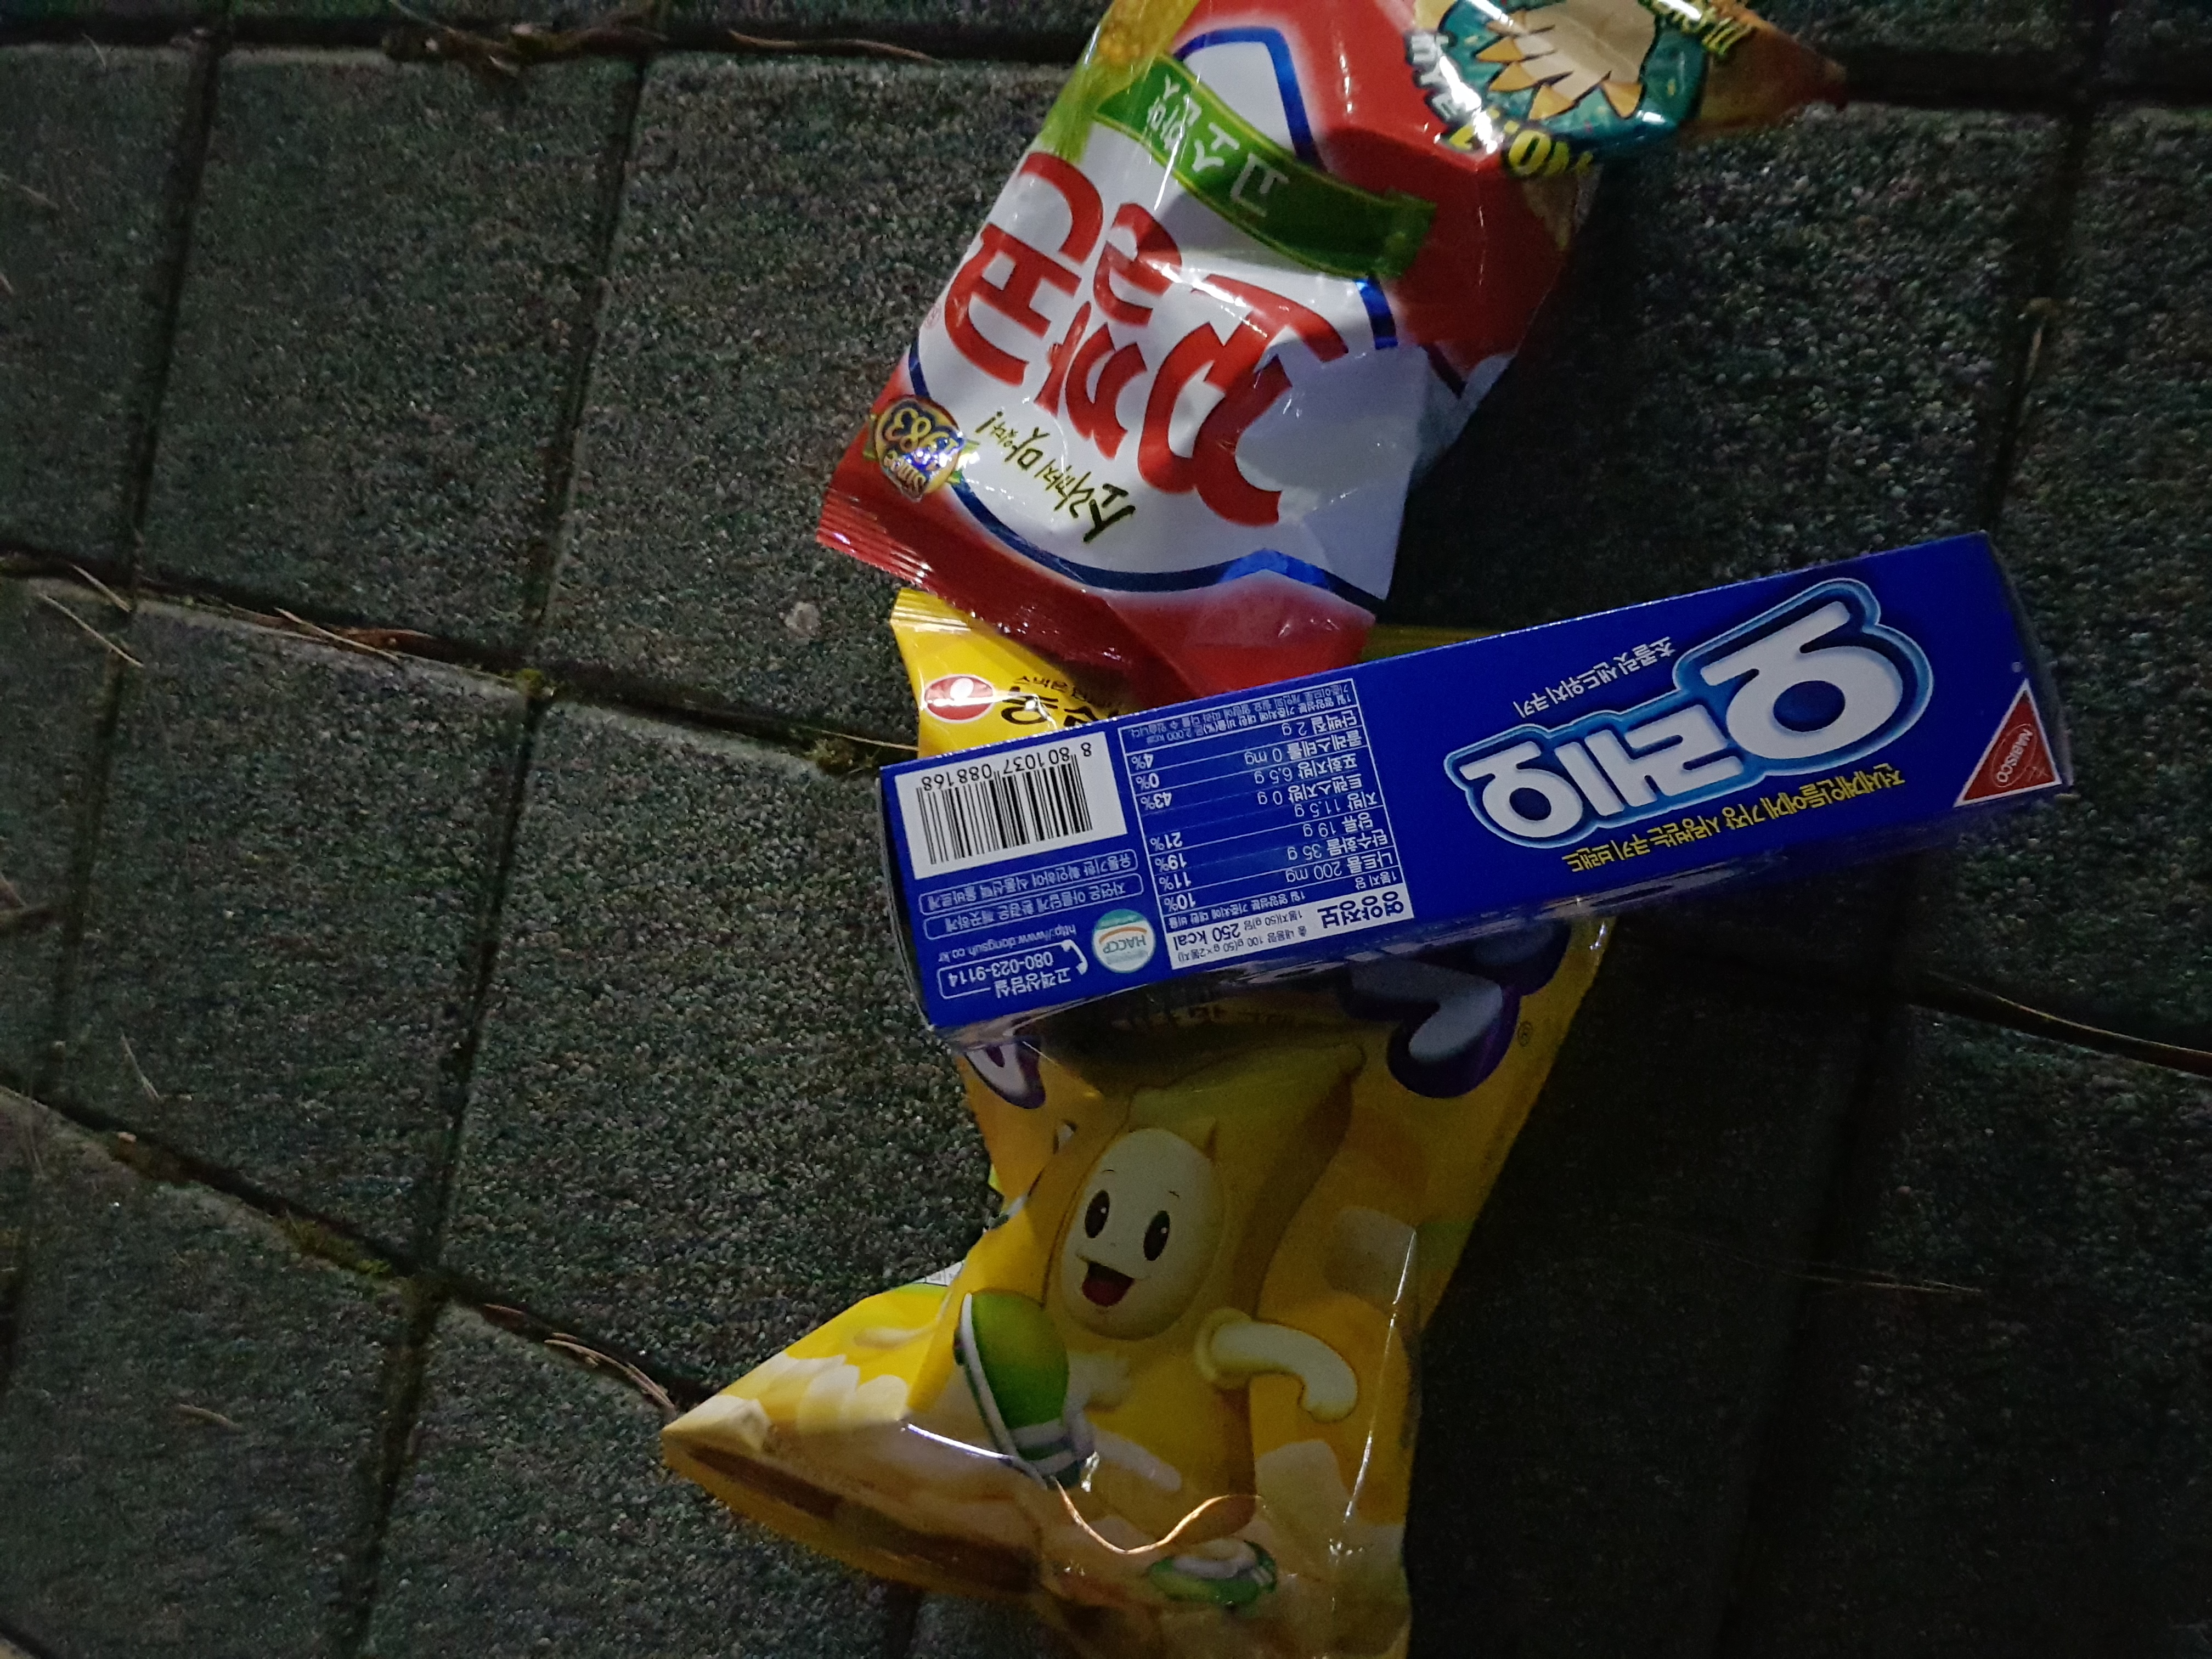banana: (644, 927, 1653, 1633)
ggoggalcon: (819, 0, 1832, 716)
oreo: (864, 528, 2087, 1037)
